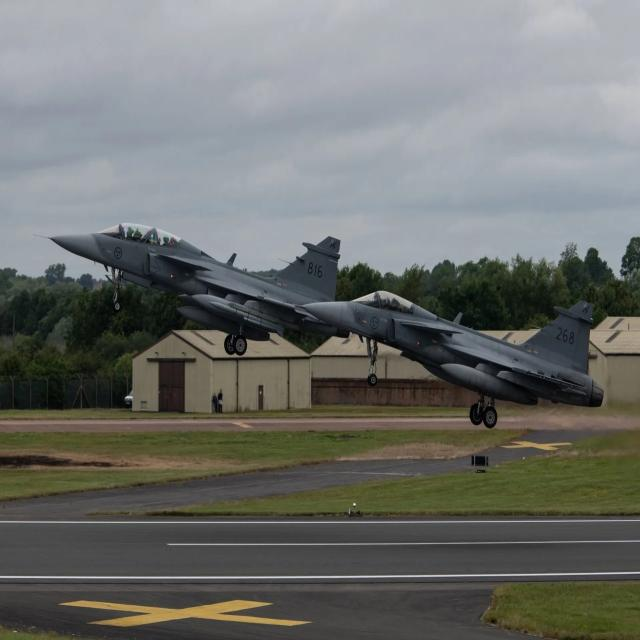MIL_Plane: (293, 290, 604, 428), (33, 232, 350, 346)
